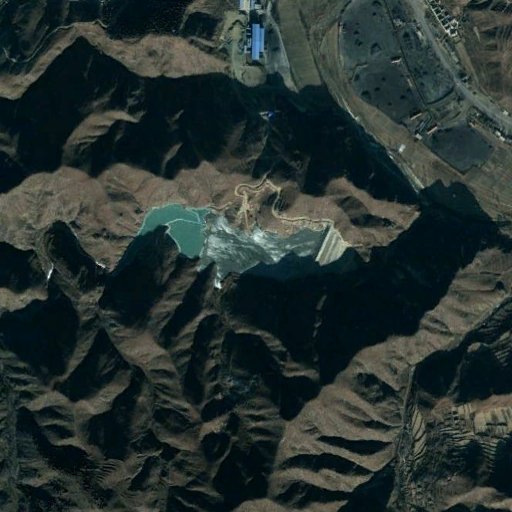tp: (138, 205, 347, 277)
